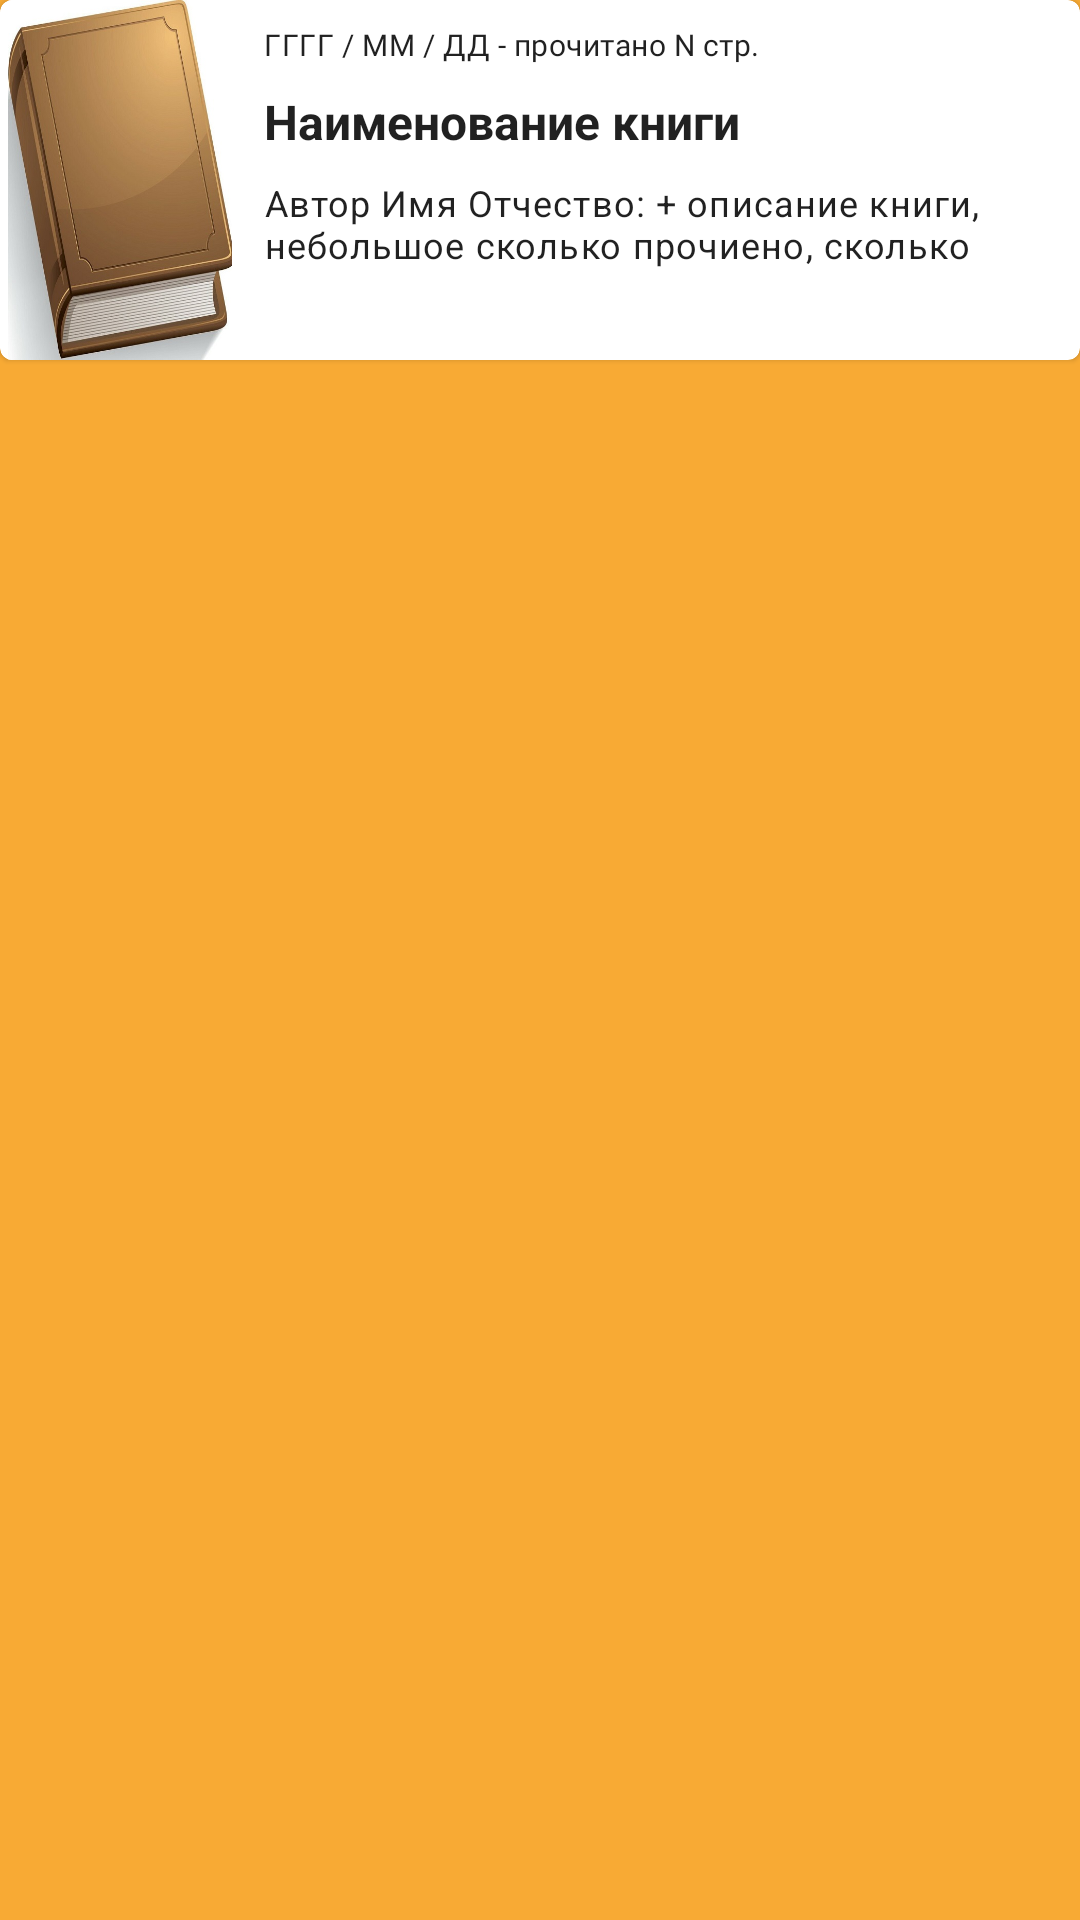

Named icons in this screenshot (1080 x 1920) and their centers, point (x, y):
Изображение обложки книги: point (120, 180)
